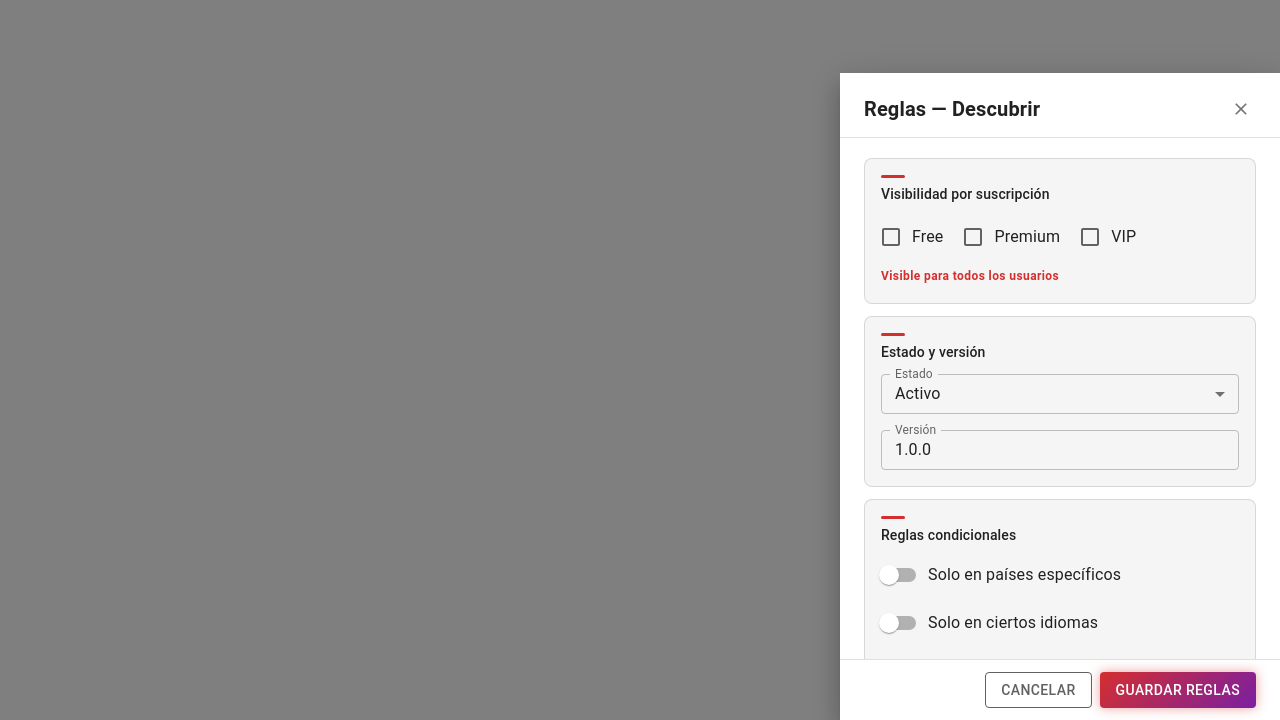
Test case: RulesDrawer › shows a dynamic access label under the role checkboxes
Expected: the text "Visible para todos los usuarios" is shown, [881, 269, 1059, 283]
Click the checkbox labelled "Premium".
click(1011, 237)  # box [962, 225, 1060, 249]
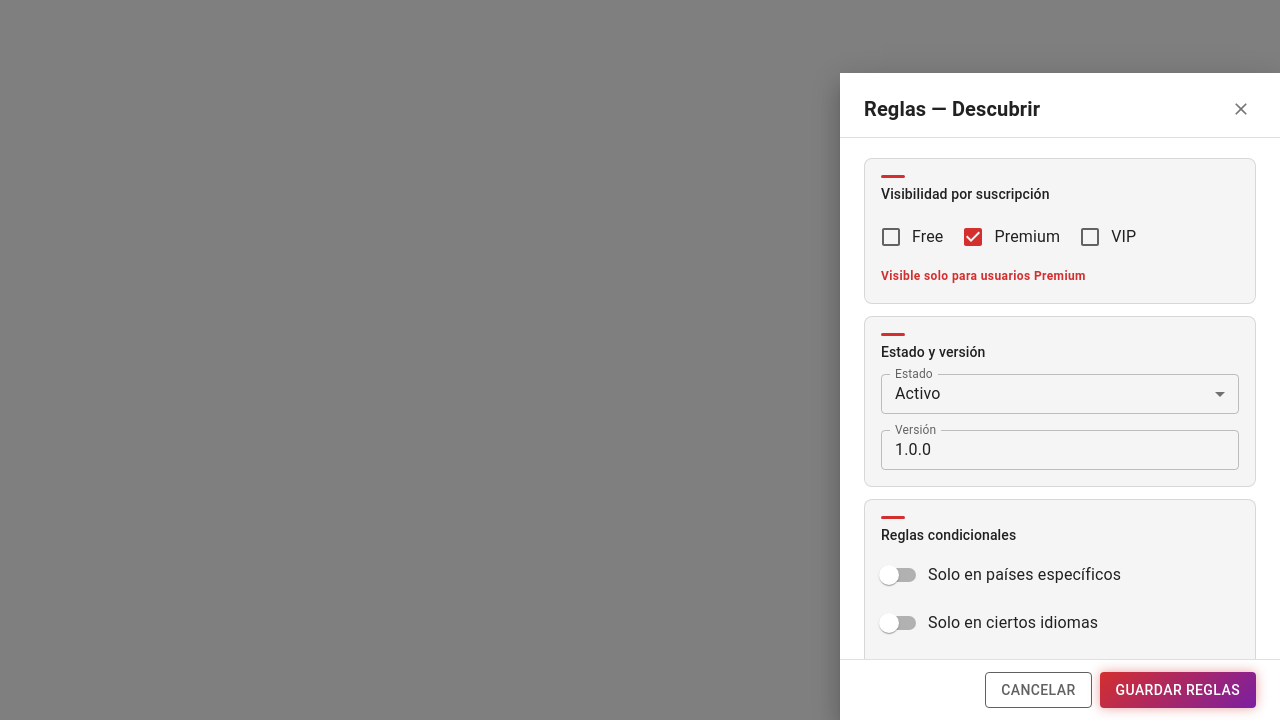
Now the text "Visible solo para usuarios Premium" is shown, box [881, 269, 1086, 283]
Click the checkbox labelled "VIP".
click(1090, 237)  # box [1078, 225, 1136, 249]
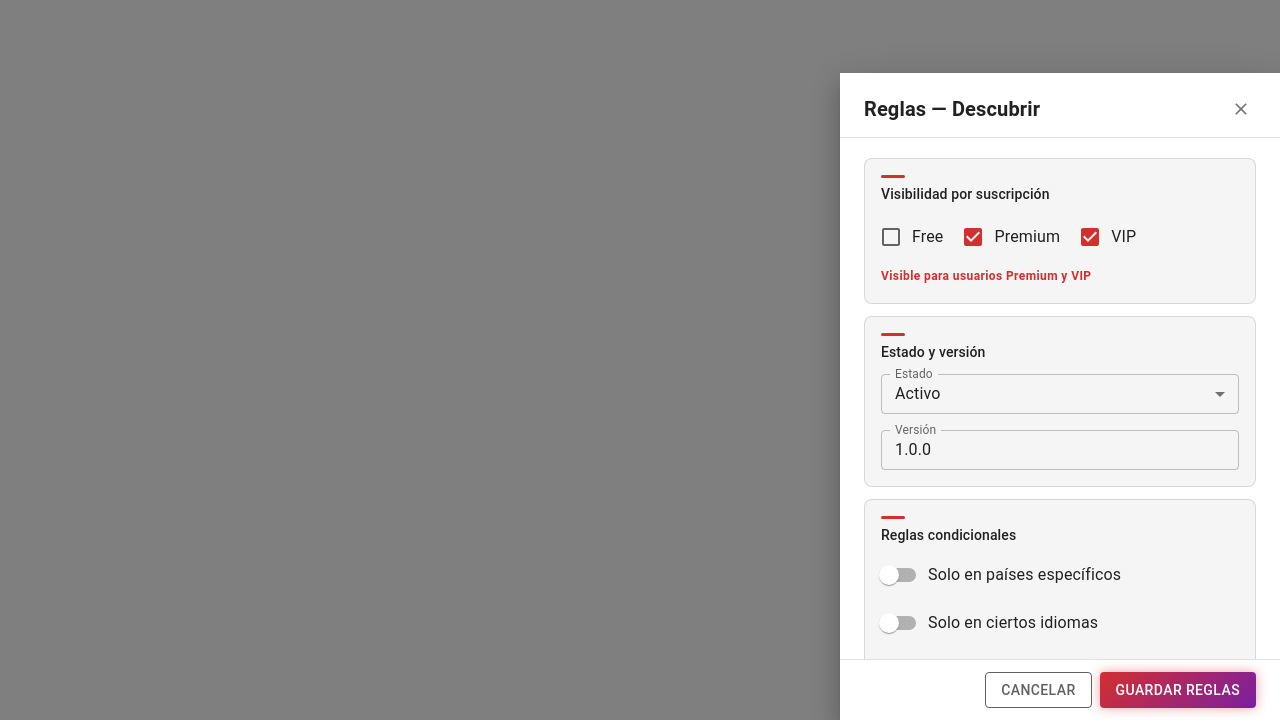
Now the text "Visible para usuarios Premium y VIP" is shown, box [881, 269, 1092, 283]
Click the checkbox labelled "Premium".
click(1011, 237)  # box [962, 225, 1060, 249]
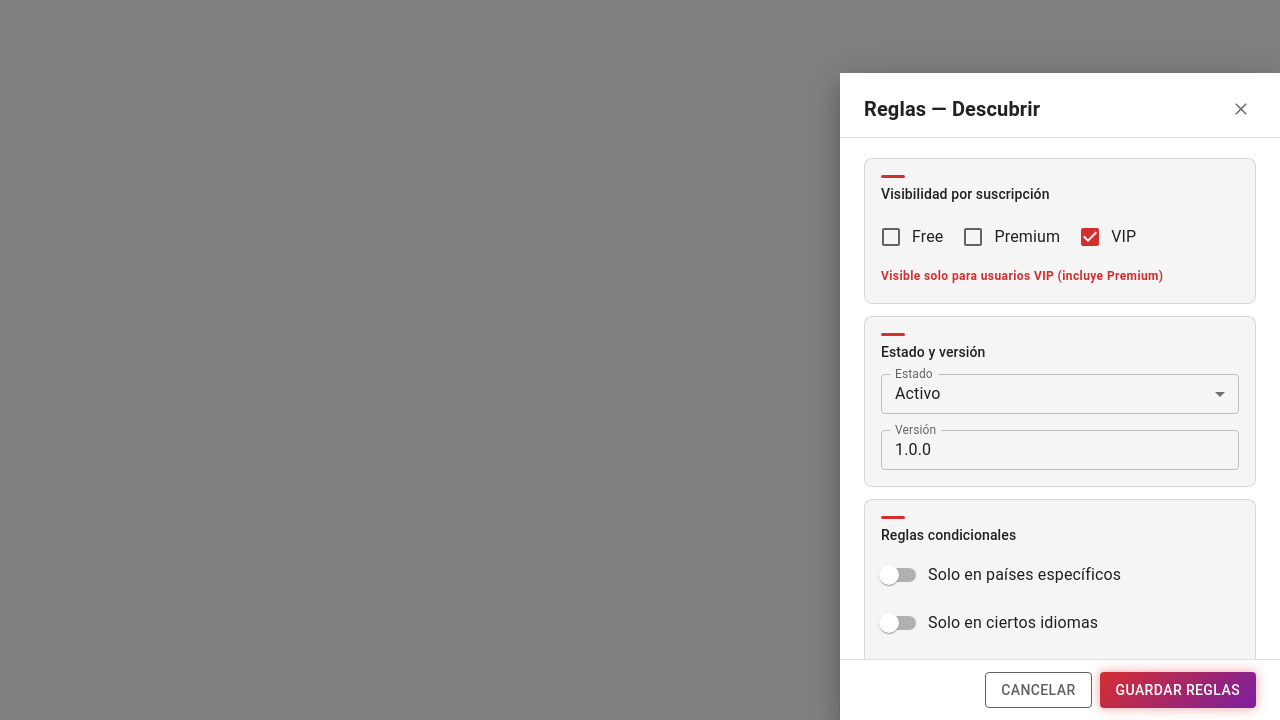
Now the text "Visible solo para usuarios VIP (incluye Premium)" is shown, box [881, 269, 1164, 283]
